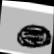correct: (13, 19, 54, 52)
